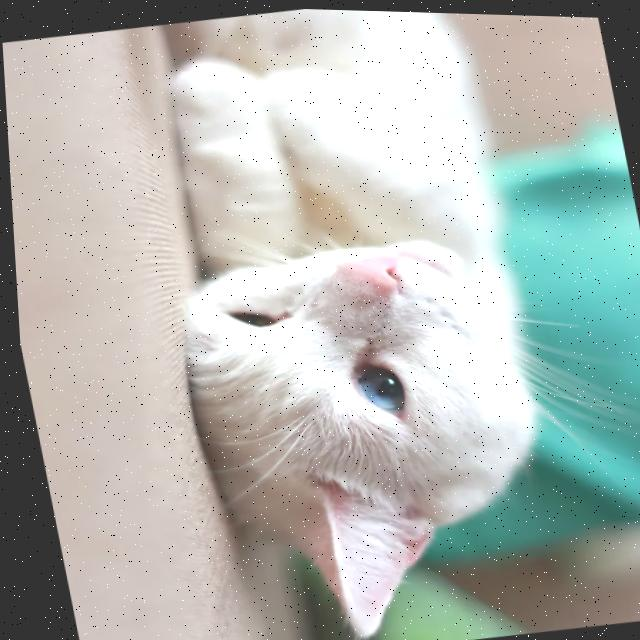Khao Manee: (113, 3, 591, 640)
